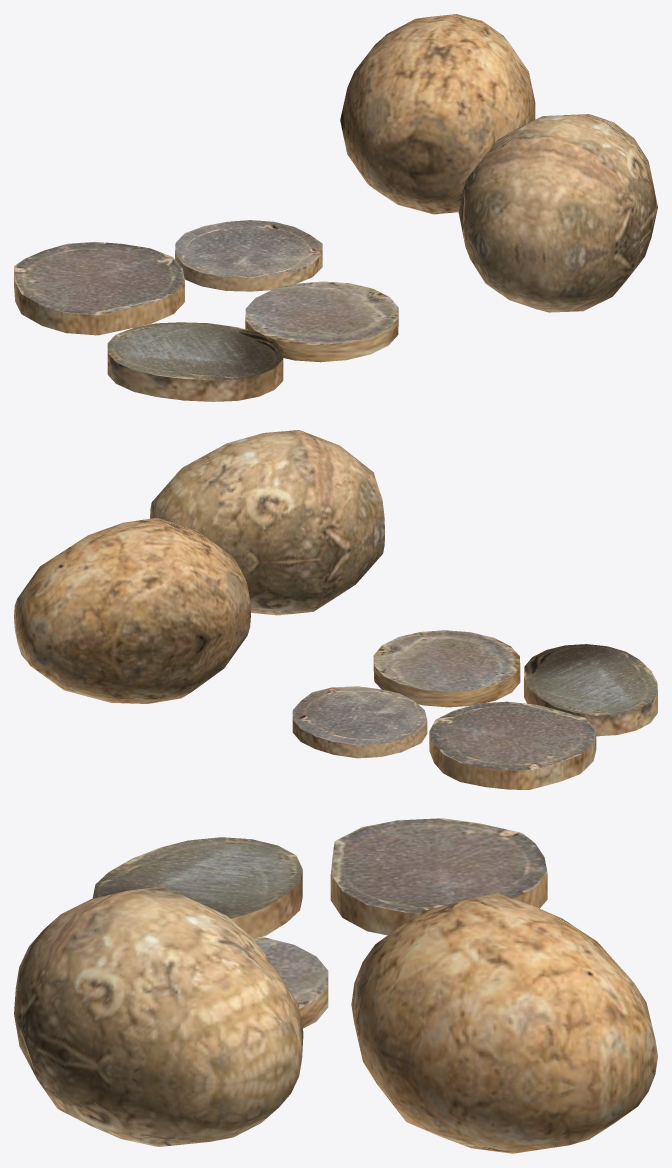
The model's file is ezhu.FBX.
The picture shows the model from 3 angles, top to bottom: view 1: azimuth 30°, elevation 25°; view 2: azimuth 150°, elevation 25°; view 3: azimuth 270°, elevation 25°; orthographic projection. The views are drawn at different scales.
Parts seen in each view (by area): view 1: Sphere002, Sphere001, Cylinder001, Cylinder003, Cylinder004, Cylinder002; view 2: Sphere001, Sphere002, Cylinder001, Cylinder004, Cylinder003, Cylinder002; view 3: Sphere001, Sphere002, Cylinder001, Cylinder003, Cylinder004.
Boxes of the visible parts, <box> form: Sphere002: <box>458,114,657,312</box>; Sphere001: <box>340,14,535,214</box>; Cylinder001: <box>14,241,184,335</box>; Cylinder003: <box>107,322,283,401</box>; Cylinder004: <box>245,281,398,362</box>; Cylinder002: <box>175,220,322,291</box>; Sphere001: <box>14,517,250,703</box>; Sphere002: <box>150,430,384,615</box>; Cylinder001: <box>429,701,596,789</box>; Cylinder004: <box>373,630,520,707</box>; Cylinder003: <box>524,644,657,736</box>; Cylinder002: <box>292,686,427,758</box>; Sphere001: <box>351,893,657,1153</box>; Sphere002: <box>14,886,303,1146</box>; Cylinder001: <box>330,818,547,935</box>; Cylinder003: <box>92,837,302,936</box>; Cylinder004: <box>251,936,328,1028</box>.
Bounding box in the file's own units: 59.23 × 18.41 × 46.83.
Materials: 2 (2 with a texture image).
